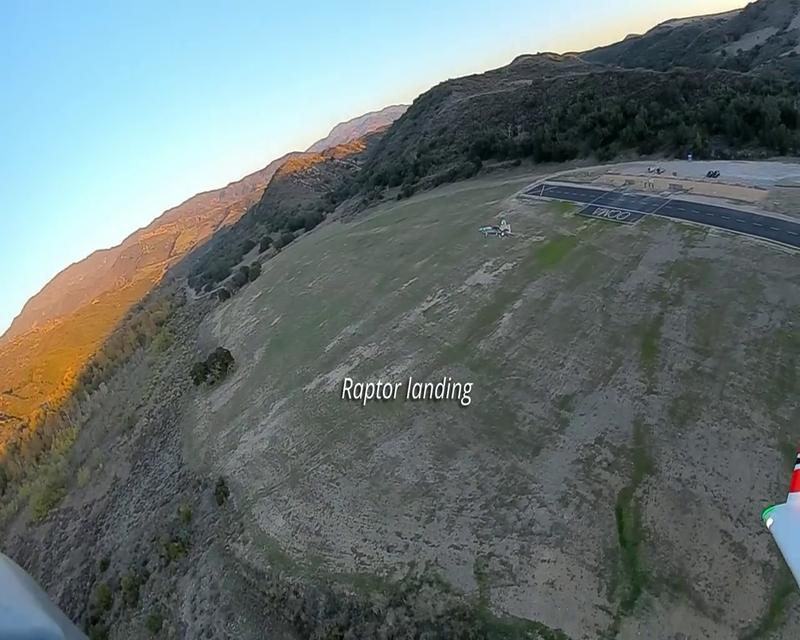UAV: (477, 219, 516, 238)
